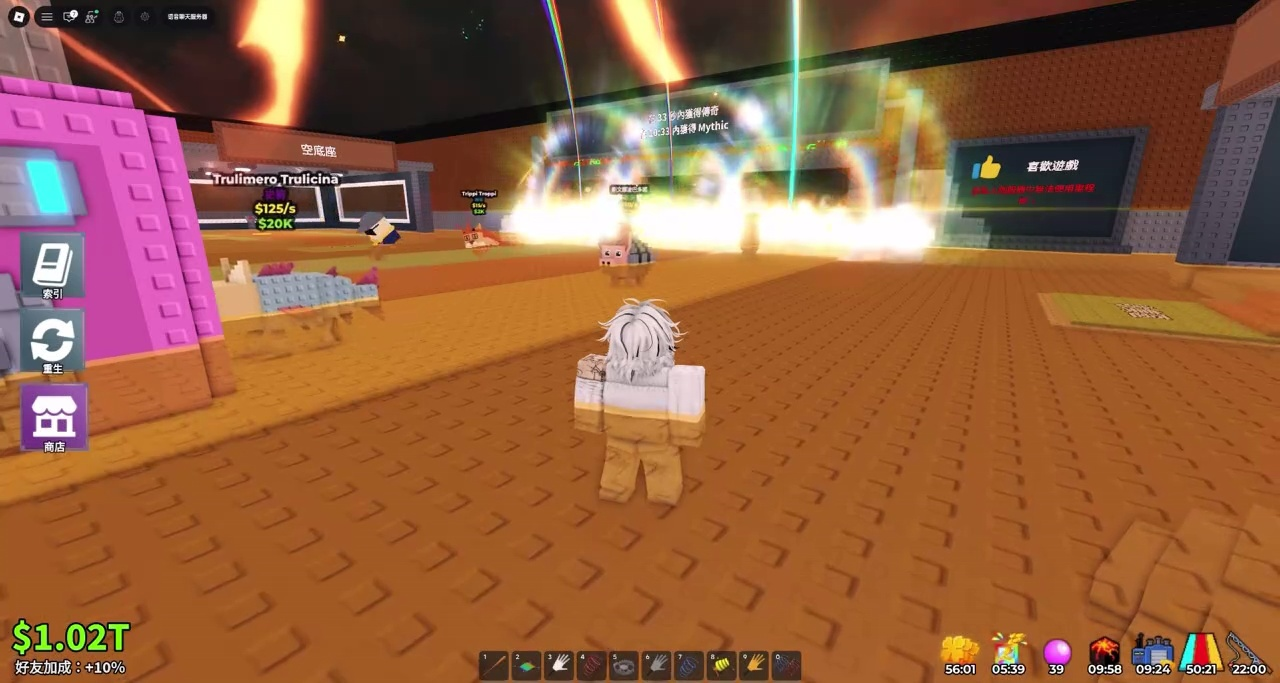price_tag: (344, 183, 388, 212)
